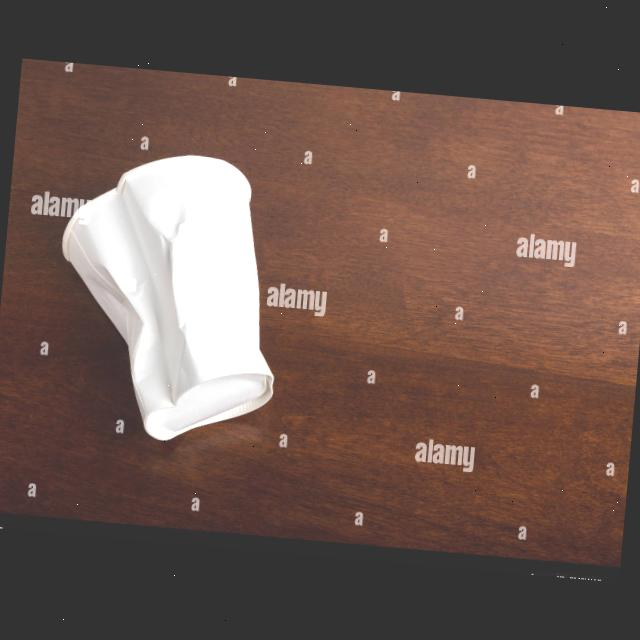trash: (43, 142, 294, 449)
